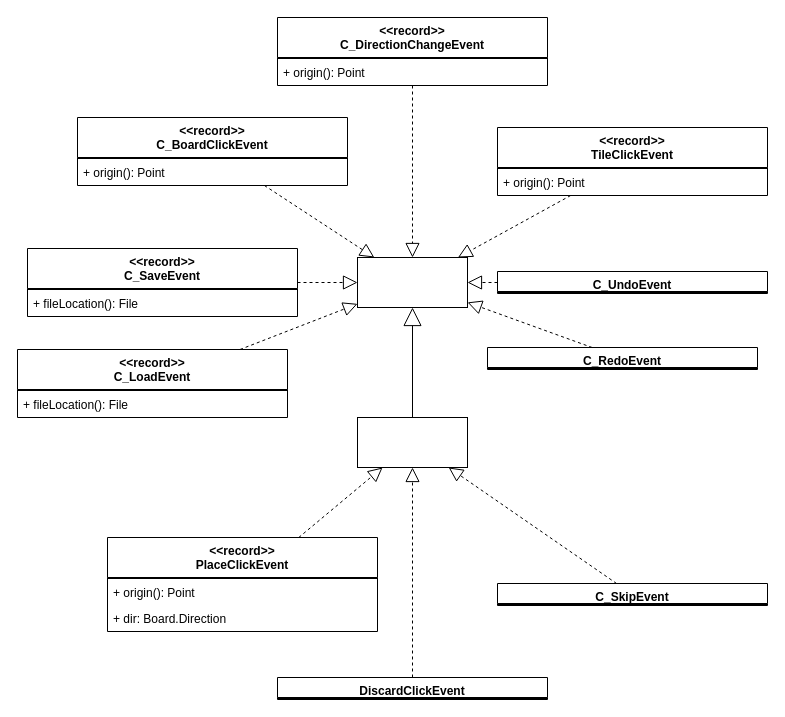
Some shapes in this 785 by 717 pixel diagram are drawn without their labels. The shapes that lost their labels are listed below. From the top down, each one's centre as x and y in pixels, then its label:
At pixel 412 282: "«interface» ControllerEvent".
At pixel 412 442: "«interface» TurnActionEvent".
